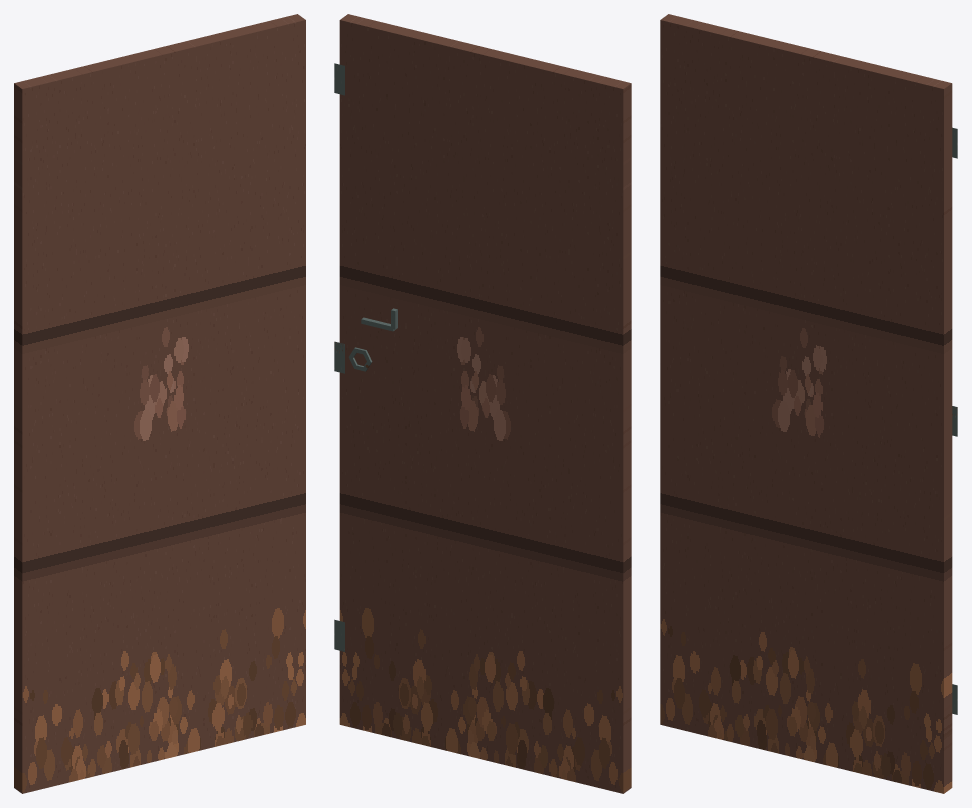
The model's file is CuaSatHam_Canh.glb.
3 renders of one model, left to right at view 1: azimuth 30°, elevation 25°; view 2: azimuth 150°, elevation 25°; view 3: azimuth 330°, elevation 25°, orthographic.
Parts seen in each view (by area): view 1: geometry_0; view 2: geometry_0; view 3: geometry_0.
Part boxes in pixels (x1,y1,x2,y2): geometry_0: [14, 14, 305, 793]; geometry_0: [334, 14, 631, 793]; geometry_0: [660, 14, 957, 793].
Size of the model in its own units: 0.815 by 1.9 by 0.056.
Materials: 1 (1 with a texture image).
